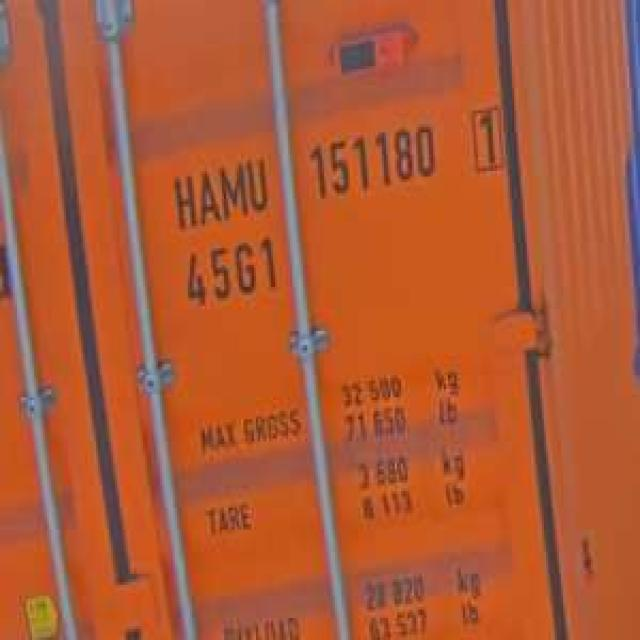dv: (465, 96, 506, 174)
owner: (166, 146, 271, 224)
serial: (305, 113, 440, 207)
size: (183, 232, 284, 306)
